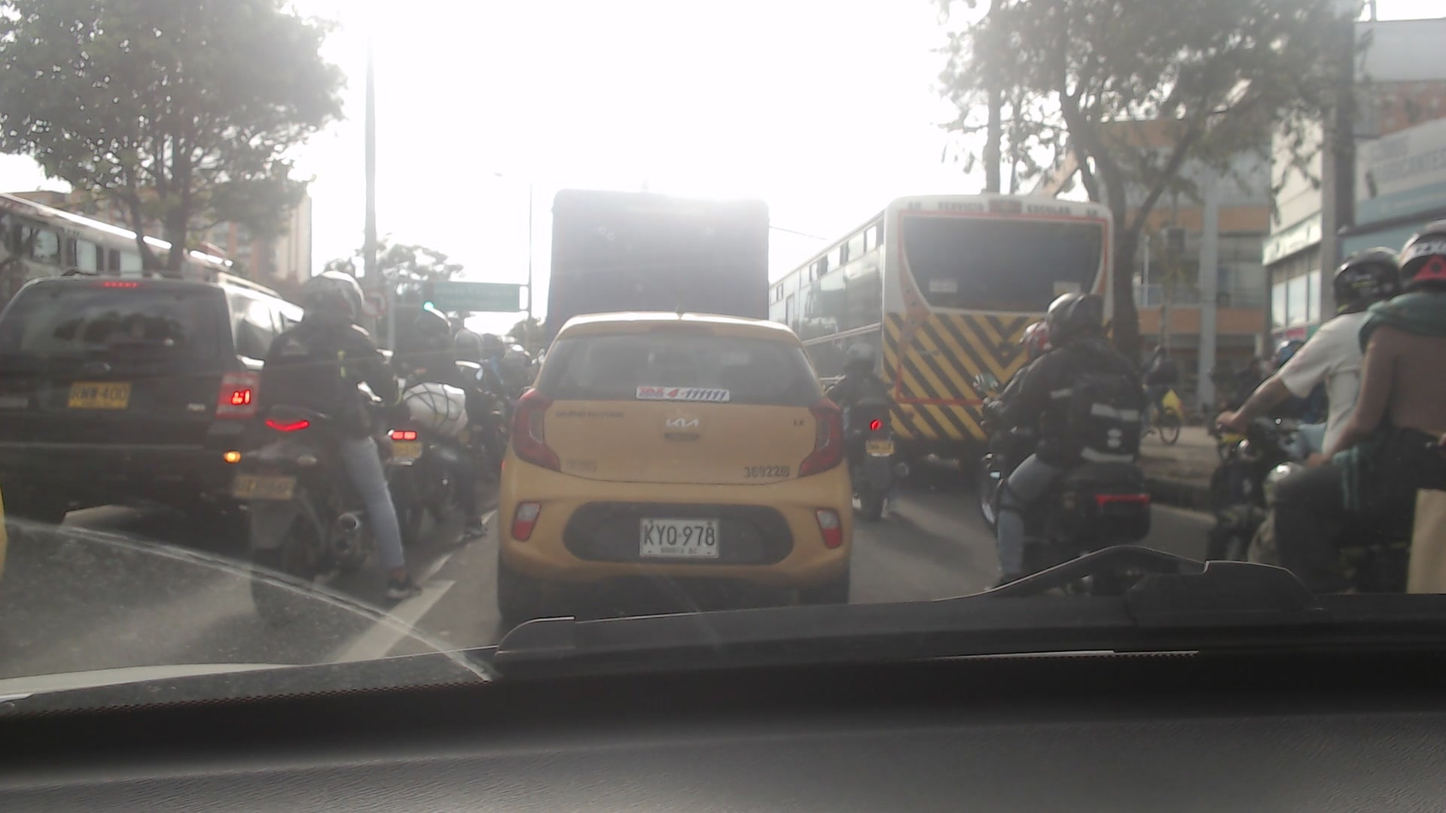bus: (766, 189, 1119, 467)
car: (498, 312, 850, 612), (0, 276, 327, 543)
motorcycle: (1196, 410, 1446, 596), (203, 422, 427, 605), (976, 453, 1142, 589), (366, 413, 482, 535), (833, 408, 899, 521)
person: (254, 276, 429, 611), (993, 292, 1147, 594), (1216, 246, 1404, 468), (1360, 220, 1445, 508), (369, 309, 458, 501), (819, 342, 907, 518)
truck: (539, 181, 780, 319)
